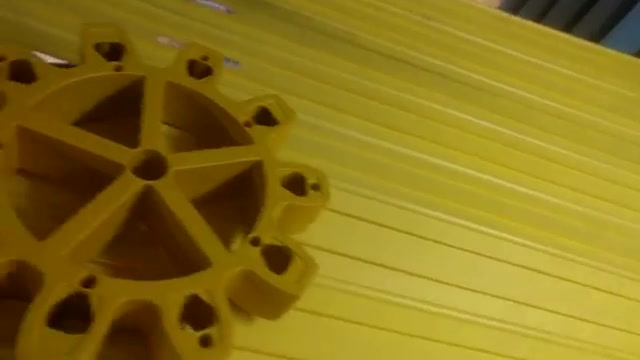gear: (1, 17, 336, 357)
